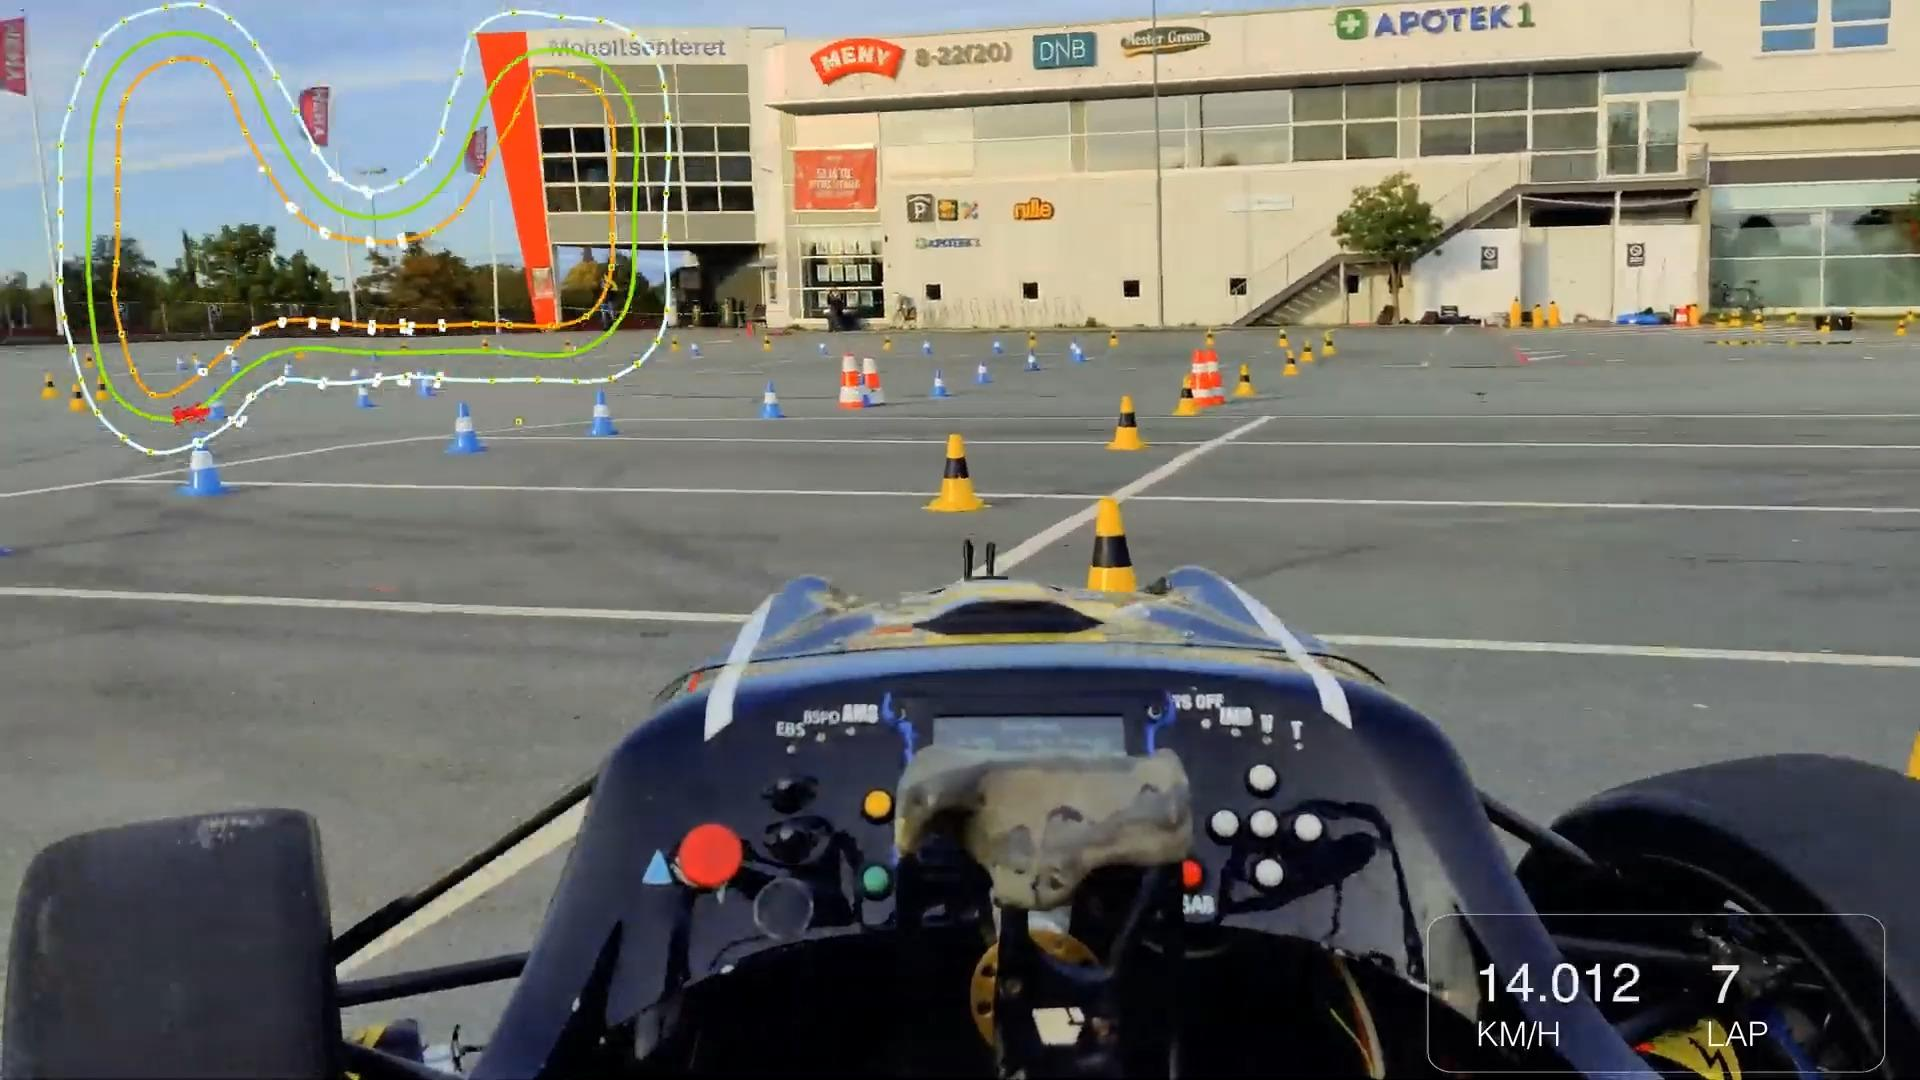blue_cone: (178, 431, 229, 500), (443, 400, 485, 458), (587, 393, 616, 439), (203, 384, 228, 426), (757, 381, 782, 419), (853, 372, 874, 407), (930, 371, 951, 398), (356, 381, 373, 407), (418, 369, 435, 394), (976, 361, 992, 384), (920, 335, 935, 356), (1068, 334, 1081, 353), (232, 353, 244, 375), (1026, 351, 1038, 369), (1075, 345, 1087, 363), (692, 342, 703, 360), (992, 338, 1004, 353), (177, 356, 185, 377)
large_orange_cone: (861, 353, 890, 409), (837, 353, 864, 410), (1201, 351, 1228, 405), (1188, 353, 1211, 407)
yellow_cone: (1067, 496, 1162, 642), (926, 434, 993, 516), (1108, 396, 1151, 452), (1172, 377, 1200, 423), (1229, 361, 1254, 400), (67, 384, 86, 414), (42, 372, 59, 402), (1283, 351, 1302, 377), (1299, 338, 1316, 364), (96, 377, 112, 402), (1276, 327, 1294, 348), (1320, 332, 1335, 356), (1203, 327, 1217, 348), (1027, 330, 1040, 349), (882, 334, 893, 353), (1109, 328, 1120, 345), (84, 351, 94, 369), (761, 335, 771, 351)
